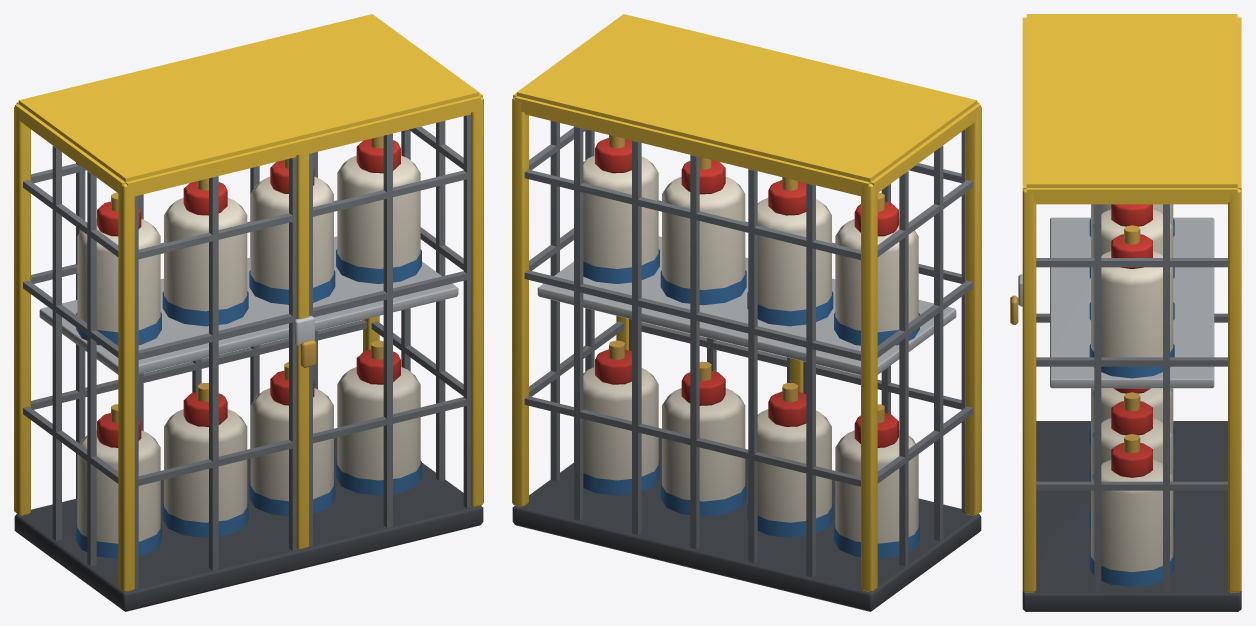
Rendered from PropaneCage_01.glb.
3 views of the same model, side by side, from view 1: azimuth 30°, elevation 25°; view 2: azimuth 150°, elevation 25°; view 3: azimuth 270°, elevation 25° (orthographic).
Visible parts, largest first — view 1: SM_PropaneCage_01; view 2: SM_PropaneCage_01; view 3: SM_PropaneCage_01.
Boxes of the visible parts, x1=… form: SM_PropaneCage_01: x1=14, y1=14, x2=483, y2=611; SM_PropaneCage_01: x1=512, y1=14, x2=981, y2=611; SM_PropaneCage_01: x1=1010, y1=14, x2=1241, y2=611.
Size of the model in its own units: 1.5 by 1.72 by 0.845.
Materials: 1 (1 with a texture image).
